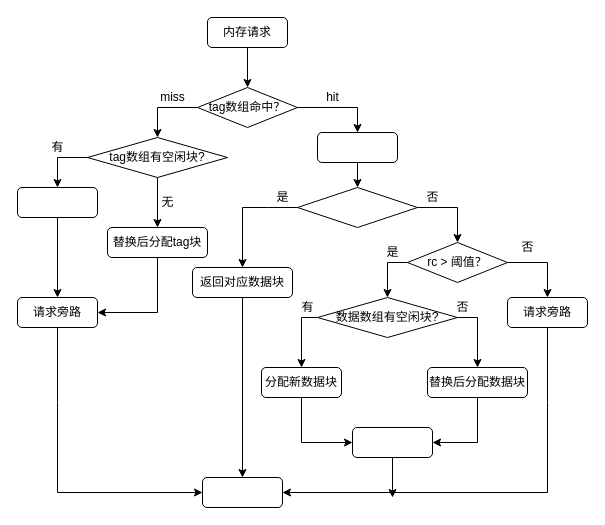
Some shapes in this 605 by 525 pixel diagram are drawn without their labels. The centre of each missing label's shape, as x and y in pixels:
"rc增1" belongs at pixel 357 147.
"分配新tag块" belongs at pixel 57 202.
"对应tag组的rc减1" belongs at pixel 392 442.
"已分配数据块?" belongs at pixel 357 207.
"结束" belongs at pixel 242 492.
